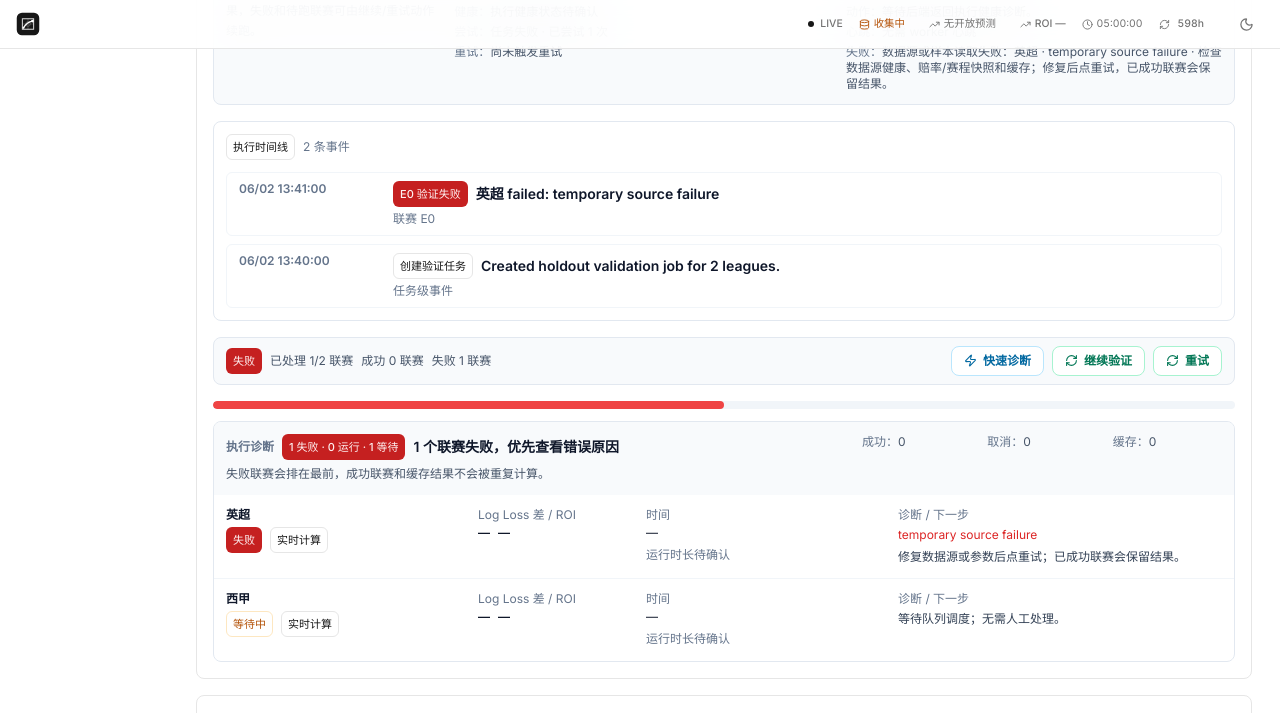
Test: App holdout validation flow › retries a failed validation job and refreshes the model page into running progress
(page scrolled)
Click the button "重试": [1188, 360] box [1153,346,1222,376]
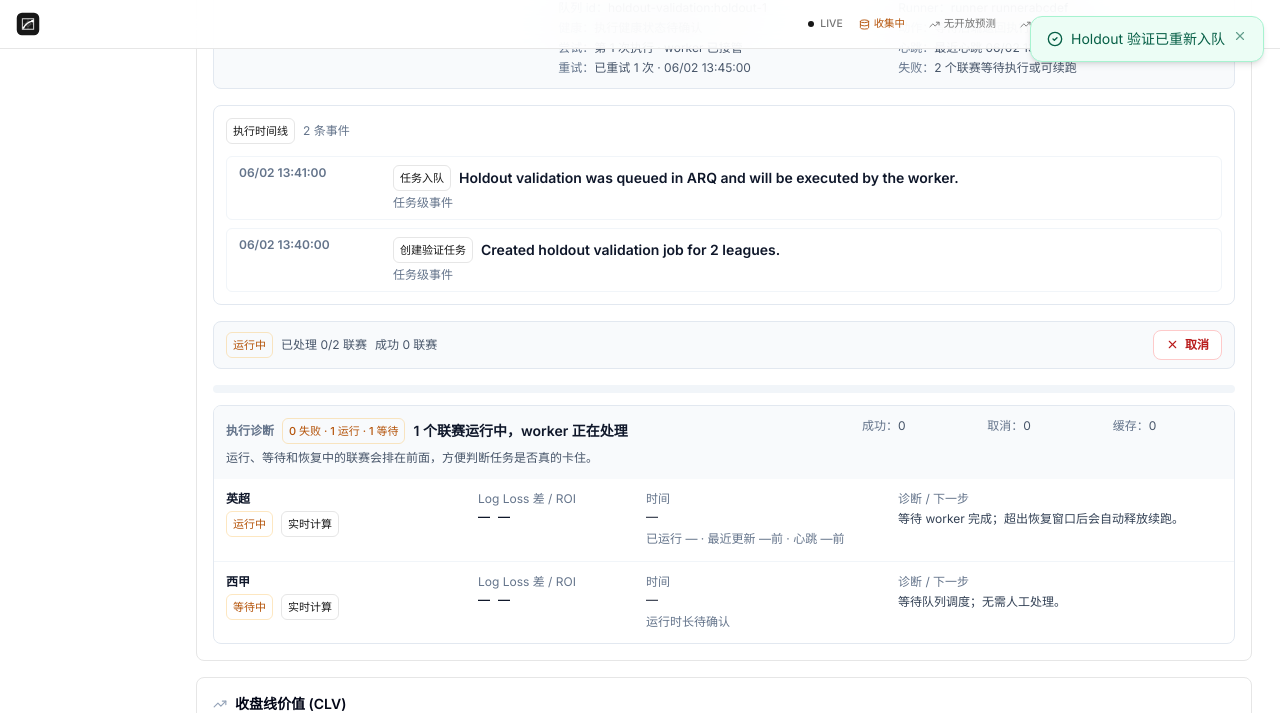
expect the text "已处理 0/2 联赛" is shown: met, box [281,336,367,352]
expect the text "尝试：第 1 次执行 · worker 已接管" is shown: met, box [558,40,743,54]
expect the text "重试：已重试 1 次 · 06/02 13:45:00" is shown: met, box [558,60,751,74]
